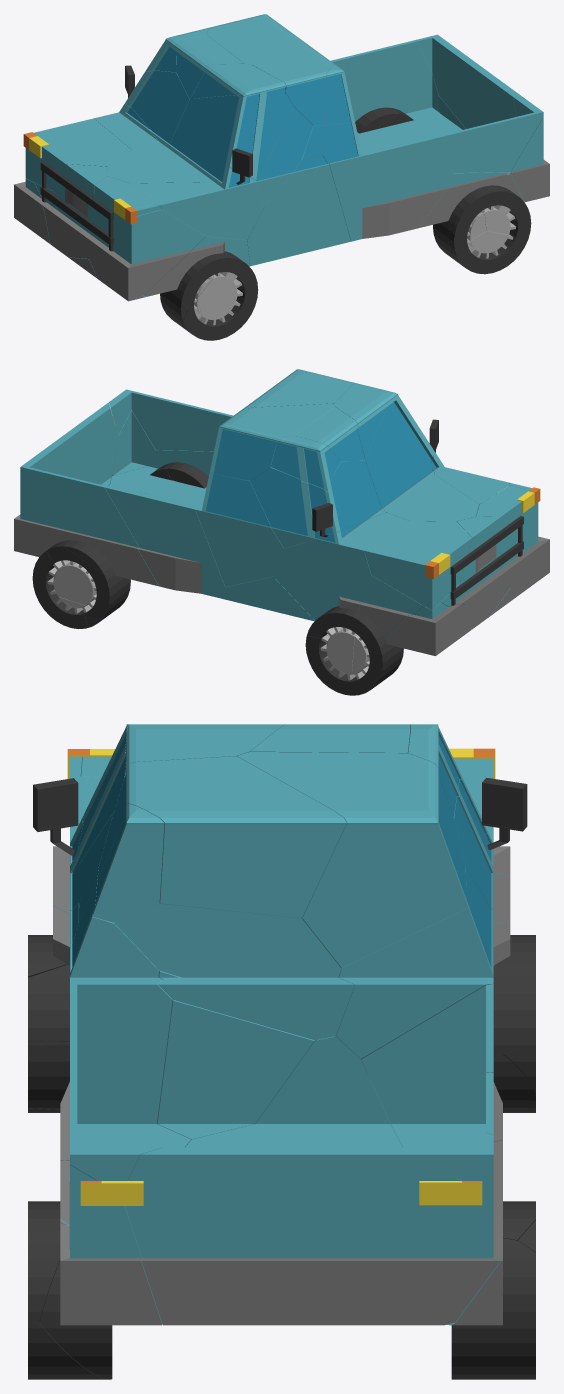
The model's file is Truck Blue Shatter.fbx.
The picture shows the model from 3 angles, top to bottom: view 1: azimuth 30°, elevation 25°; view 2: azimuth 150°, elevation 25°; view 3: azimuth 270°, elevation 25°; orthographic projection. The views are drawn at different scales.
Visible parts, largest first — view 1: Truck Body.002_cell.009, Truck Body.002_cell.022, Truck Body.002_cell.008, Truck Body.002_cell.049, Truck Body.002_cell.025, Truck Body.002_cell.050, Truck Body.002_cell.040, Truck Body.002_cell.044, Truck Body.002_cell.030, Truck Body.002_cell.017, Truck Body.002_cell.007, Truck Body.002_cell.051 (+28 smaller); view 2: Truck Body.002_cell.025, Truck Body.002_cell.009, Truck Body.002_cell.031, Truck Body.002_cell.016, Truck Body.002_cell.007, Truck Body.002_cell.026, Truck Body.002_cell.017, Truck Body.002_cell.043, Truck Body.002_cell.040, Truck Body.002_cell.044, Truck Body.002_cell.008, Truck Body.002_cell.036 (+23 smaller); view 3: Truck Body.002_cell.040, Truck Body.002_cell.043, Truck Body.002_cell.030, Truck Body.002_cell.022, Truck Body.002_cell.023, Truck Body.002_cell.016, Truck Body.002_cell.032, Truck Body.002_cell.026, Truck Body.002_cell.035, Truck Body.002_cell.015, Tire.027_cell.003, Truck Body.002_cell.014 (+28 smaller).
Boxes of the visible parts, x1=… form: Truck Body.002_cell.009: x1=107, y1=93, x2=294, y2=183; Truck Body.002_cell.022: x1=322, y1=123, x2=453, y2=241; Truck Body.002_cell.008: x1=89, y1=176, x2=205, y2=301; Truck Body.002_cell.049: x1=247, y1=155, x2=350, y2=266; Truck Body.002_cell.025: x1=345, y1=39, x2=439, y2=138; Truck Body.002_cell.050: x1=131, y1=167, x2=264, y2=239; Truck Body.002_cell.040: x1=417, y1=34, x2=525, y2=128; Truck Body.002_cell.044: x1=421, y1=97, x2=543, y2=172; Truck Body.002_cell.030: x1=252, y1=31, x2=334, y2=125; Truck Body.002_cell.017: x1=25, y1=118, x2=131, y2=190; Truck Body.002_cell.007: x1=125, y1=70, x2=189, y2=145; Truck Body.002_cell.051: x1=43, y1=164, x2=107, y2=258; Truck Body.002_cell.025: x1=14, y1=471, x2=158, y2=586; Truck Body.002_cell.009: x1=365, y1=393, x2=478, y2=521; Truck Body.002_cell.031: x1=273, y1=512, x2=409, y2=627; Truck Body.002_cell.016: x1=105, y1=486, x2=225, y2=598; Truck Body.002_cell.007: x1=250, y1=460, x2=385, y2=548; Truck Body.002_cell.026: x1=195, y1=473, x2=284, y2=586; Truck Body.002_cell.017: x1=364, y1=521, x2=472, y2=610; Truck Body.002_cell.043: x1=209, y1=403, x2=335, y2=480; Truck Body.002_cell.040: x1=15, y1=402, x2=118, y2=518; Truck Body.002_cell.044: x1=109, y1=389, x2=233, y2=451; Truck Body.002_cell.008: x1=476, y1=485, x2=549, y2=594; Truck Body.002_cell.036: x1=384, y1=602, x2=471, y2=655; Truck Body.002_cell.040: x1=125, y1=1133, x2=499, y2=1325; Truck Body.002_cell.043: x1=237, y1=752, x2=468, y2=967; Truck Body.002_cell.030: x1=97, y1=756, x2=346, y2=918; Truck Body.002_cell.022: x1=60, y1=880, x2=191, y2=1160; Truck Body.002_cell.023: x1=114, y1=904, x2=354, y2=1040; Truck Body.002_cell.016: x1=361, y1=984, x2=502, y2=1147; Truck Body.002_cell.032: x1=79, y1=867, x2=316, y2=1139; Truck Body.002_cell.026: x1=335, y1=868, x2=493, y2=1076; Truck Body.002_cell.035: x1=185, y1=1036, x2=402, y2=1147; Truck Body.002_cell.015: x1=60, y1=1165, x2=162, y2=1325; Tire.027_cell.003: x1=451, y1=1238, x2=535, y2=1379; Truck Body.002_cell.014: x1=92, y1=804, x2=164, y2=922.
Size of the model in its own units: 404 by 197 by 210.
